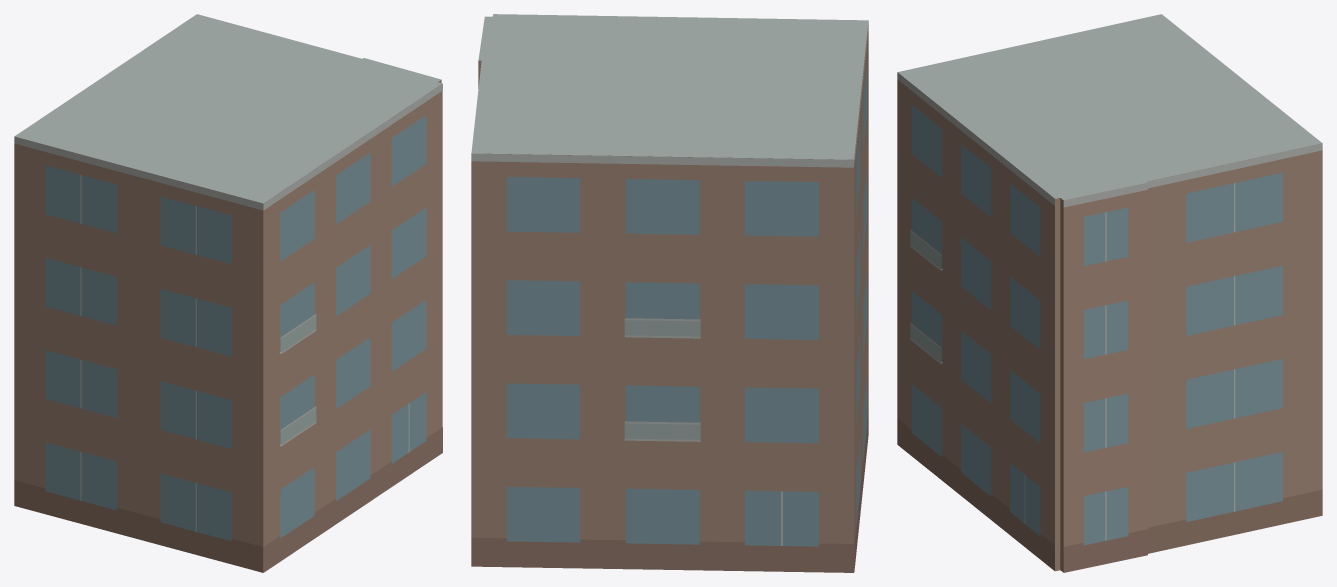
The model's file is survey-upis-32861427.glb.
3 views of the same model, side by side, from view 1: azimuth 30°, elevation 25°; view 2: azimuth 150°, elevation 25°; view 3: azimuth 270°, elevation 25° (orthographic). The views are drawn at different scales.
Visible parts, largest first — view 1: survey-upis-32861427.tmp; view 2: survey-upis-32861427.tmp; view 3: survey-upis-32861427.tmp.
Boxes of the visible parts, x1,y1,x2,y2 form: survey-upis-32861427.tmp: (14, 14, 442, 572); survey-upis-32861427.tmp: (471, 14, 868, 572); survey-upis-32861427.tmp: (897, 14, 1322, 572).
Bounding box in the file's own units: 13.7 × 12.75 × 13.2.
